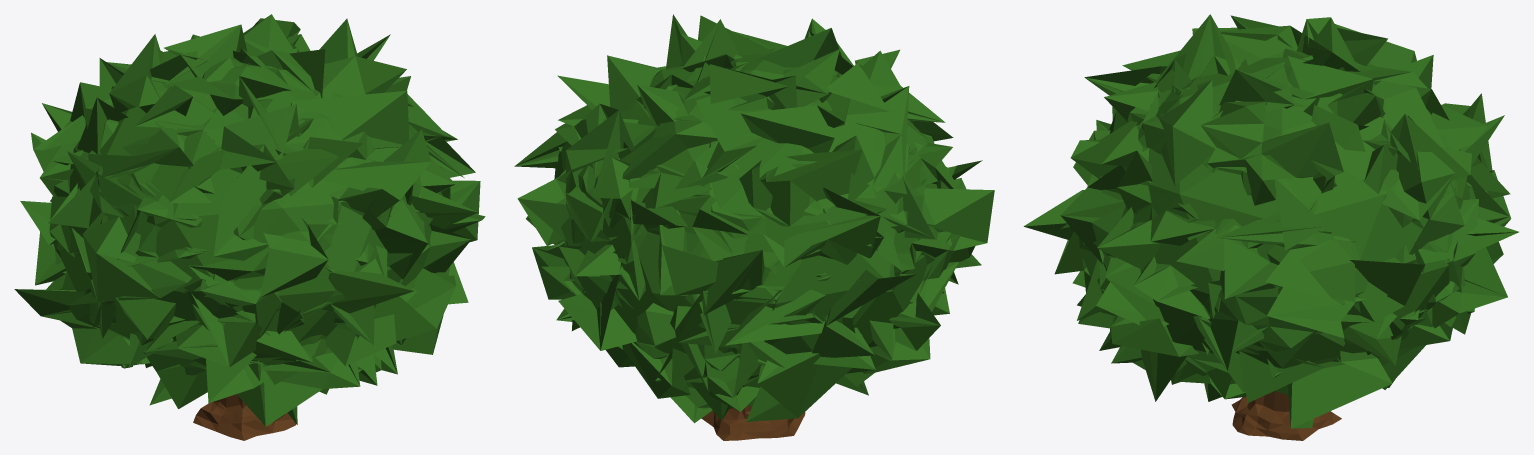
File: Bush.fbx
3 views of the same model, side by side, from view 1: azimuth 30°, elevation 25°; view 2: azimuth 150°, elevation 25°; view 3: azimuth 270°, elevation 25° (orthographic).
Visible parts, largest first — view 1: Bush3, Bush1, Bush2, Stump; view 2: Bush3, Bush1, Bush2, Stump; view 3: Bush3, Bush1, Bush2, Stump.
Part boxes in pixels (x1,y1,x2,y2): Bush3: [14, 14, 485, 426]; Bush1: [59, 63, 442, 369]; Bush2: [55, 57, 437, 384]; Stump: [193, 394, 297, 440]; Bush3: [514, 14, 994, 423]; Bush1: [563, 48, 950, 386]; Bush2: [557, 54, 951, 380]; Stump: [701, 406, 805, 440]; Bush3: [1023, 14, 1518, 428]; Bush1: [1102, 57, 1469, 372]; Bush2: [1099, 48, 1488, 384]; Stump: [1231, 391, 1341, 440].
Size of the model in its own units: 2496 by 2117 by 2487.
